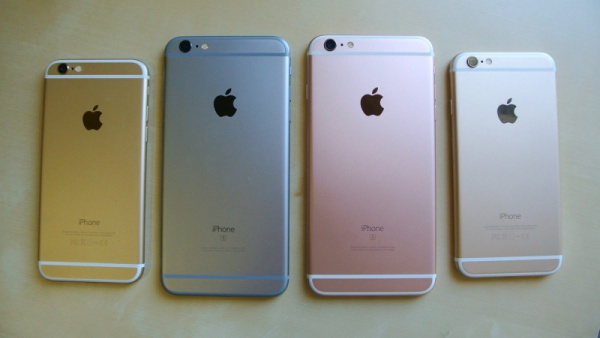apple: (352, 78, 401, 143), (486, 89, 529, 135), (71, 98, 117, 136), (206, 84, 247, 125)
